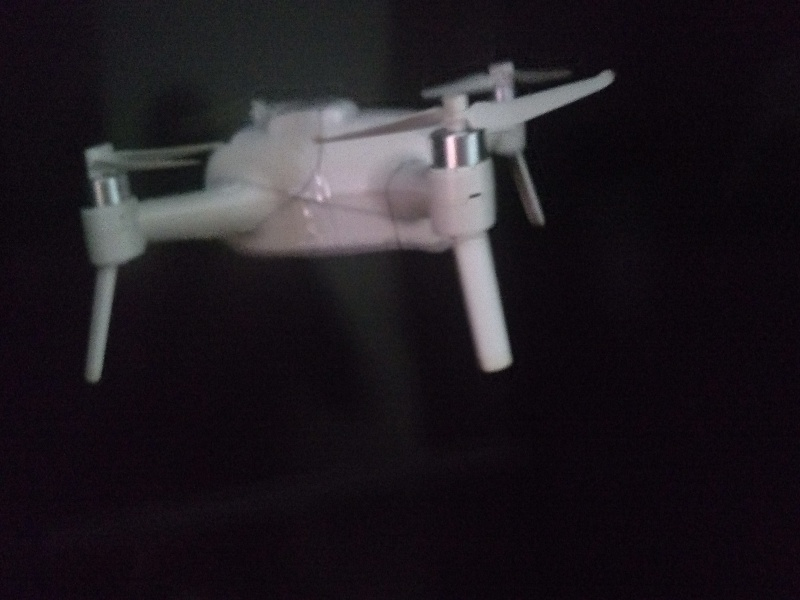drone: (70, 58, 620, 381)
